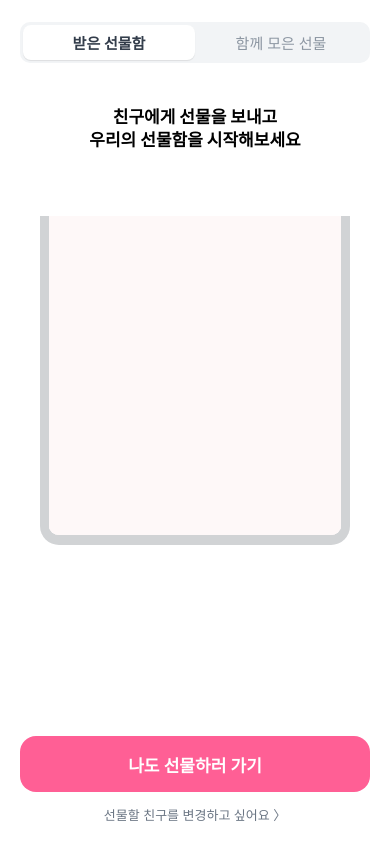
Test: 친구 연결 흐름 › 이미 연결된 상태에서 친구 변경을 누르면 준비 중 화면이 보인다
Click the text "선물할 친구를 변경하고 싶어요 〉": coordinates (195, 814) [104, 805, 286, 824]
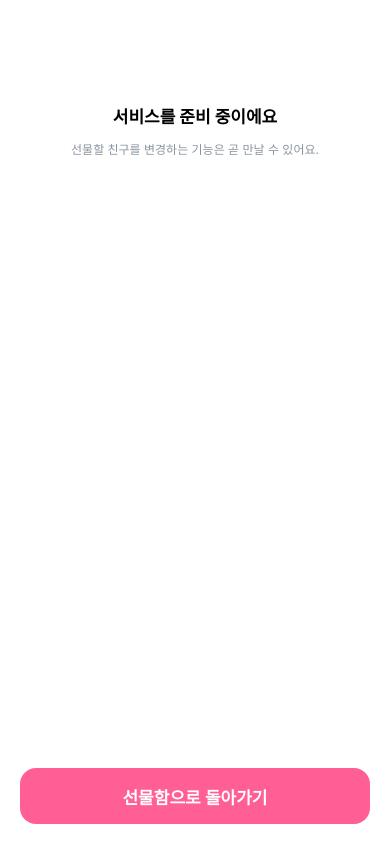
Expected: the text "서비스를 준비 중이에요" is shown, [113, 107, 277, 127]
